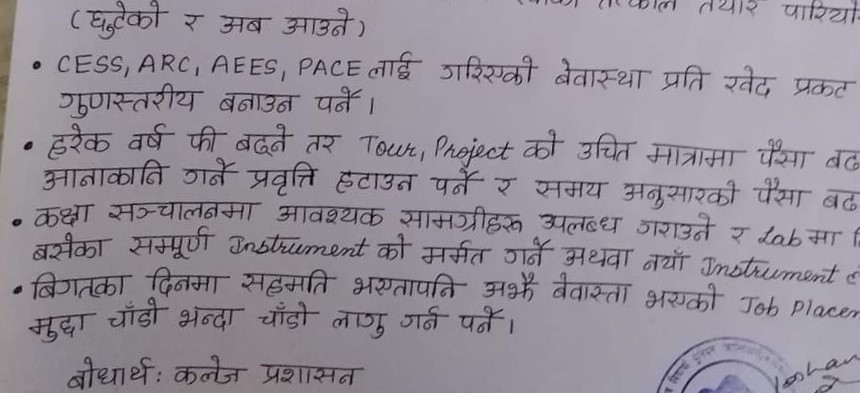text: (52, 82, 201, 120), (38, 157, 168, 196), (107, 194, 260, 226), (396, 201, 528, 238), (620, 175, 742, 210), (552, 56, 654, 95), (29, 266, 131, 305), (63, 352, 154, 393), (348, 270, 462, 301), (644, 138, 740, 174), (255, 361, 363, 393), (440, 54, 539, 88), (274, 198, 385, 228), (237, 265, 333, 299), (246, 155, 320, 198), (86, 1, 167, 40), (546, 271, 636, 306), (126, 227, 215, 262), (277, 5, 355, 43), (144, 262, 224, 299), (46, 120, 114, 162), (633, 211, 714, 246), (642, 280, 722, 315), (168, 354, 246, 389), (29, 231, 108, 265), (532, 211, 624, 240), (531, 173, 612, 205), (559, 239, 635, 272), (331, 169, 416, 198), (231, 120, 295, 158), (216, 88, 301, 116), (719, 62, 781, 100), (328, 306, 391, 343), (420, 238, 492, 270), (27, 310, 91, 346), (175, 298, 240, 333), (576, 130, 635, 166), (256, 299, 315, 334), (781, 2, 860, 28), (754, 138, 814, 172), (31, 197, 94, 229), (481, 268, 542, 301), (104, 299, 163, 333), (748, 177, 805, 212), (425, 167, 480, 201), (788, 72, 854, 100), (501, 236, 553, 270), (311, 83, 364, 116), (177, 158, 235, 188), (364, 50, 421, 80), (662, 62, 708, 99), (124, 121, 172, 155), (517, 128, 563, 163), (459, 302, 505, 337), (398, 302, 447, 333), (640, 247, 693, 275), (215, 12, 267, 39), (303, 128, 344, 158), (375, 234, 411, 267), (185, 123, 222, 155), (818, 186, 860, 214), (822, 146, 860, 176), (806, 223, 844, 249), (491, 172, 517, 198), (179, 8, 202, 36), (727, 219, 749, 248)
